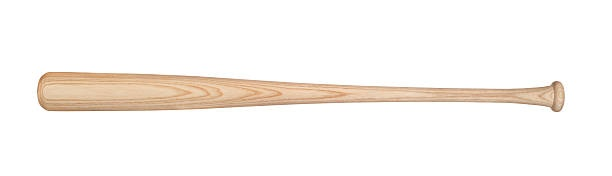bita: (35, 66, 564, 114)
